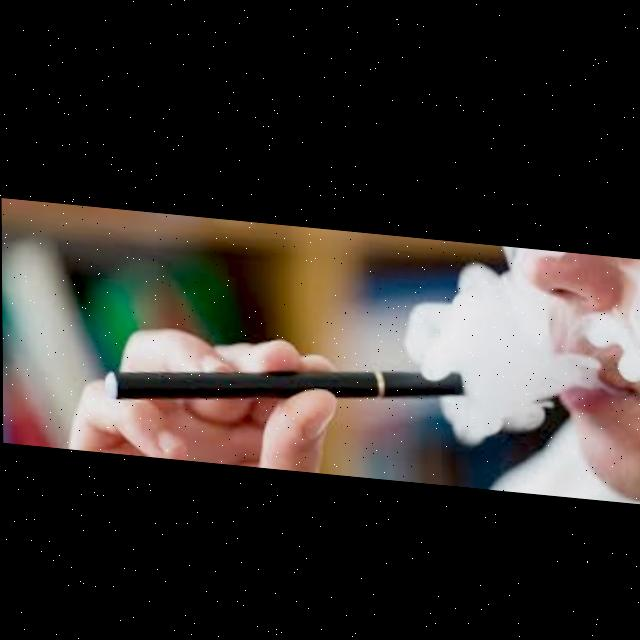vape: (105, 334, 465, 425)
